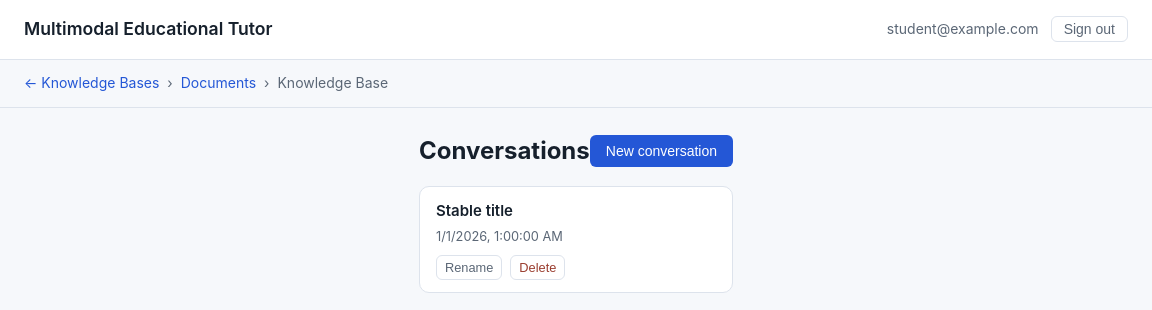
Conversation list › cancels rename and leaves the title unchanged
expect the text "Stable title" is shown: met, box top-left (436, 201), bottom-right (513, 220)
Click the button "Rename" at coordinates (469, 268), box top-left (436, 255), bottom-right (502, 280)
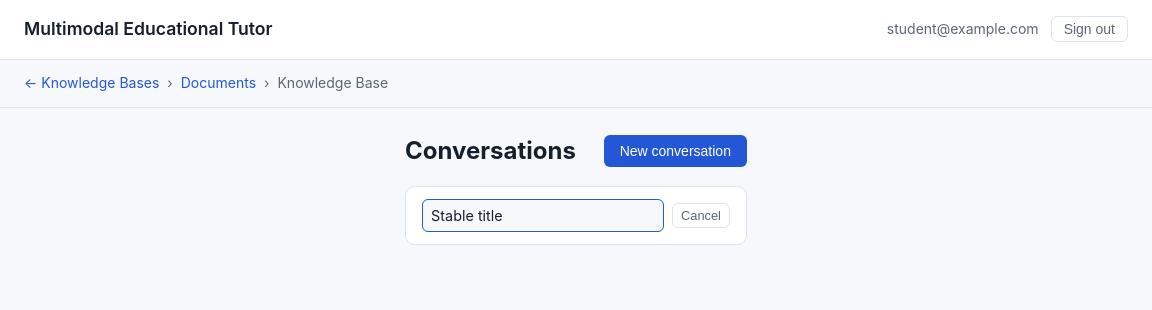
Replace the text in the field named "Conversation title" with "Abandoned edit" at coordinates (543, 215), box top-left (422, 199), bottom-right (664, 232)
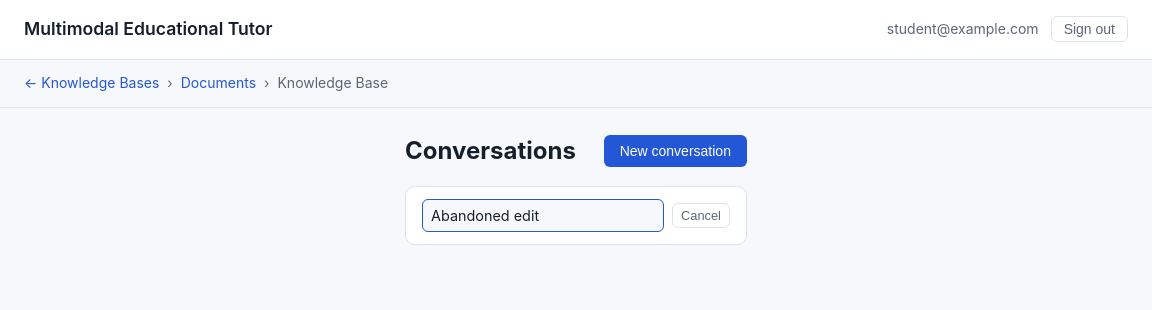
Press Escape
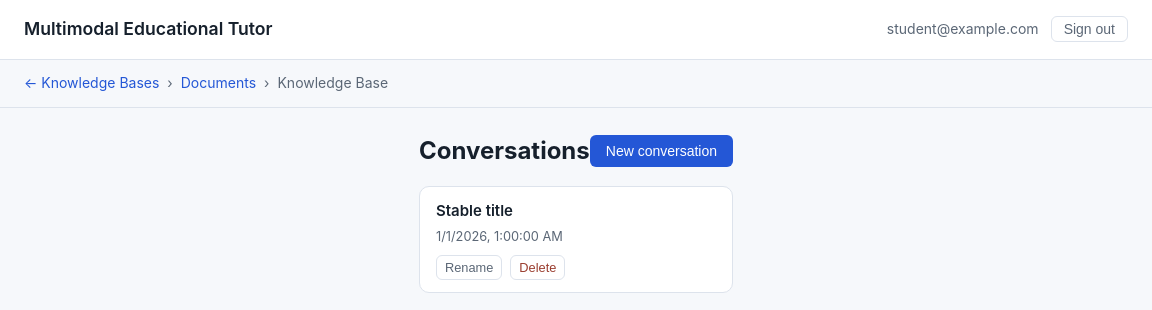
expect the text "Stable title" is shown: met, box top-left (436, 201), bottom-right (513, 220)
